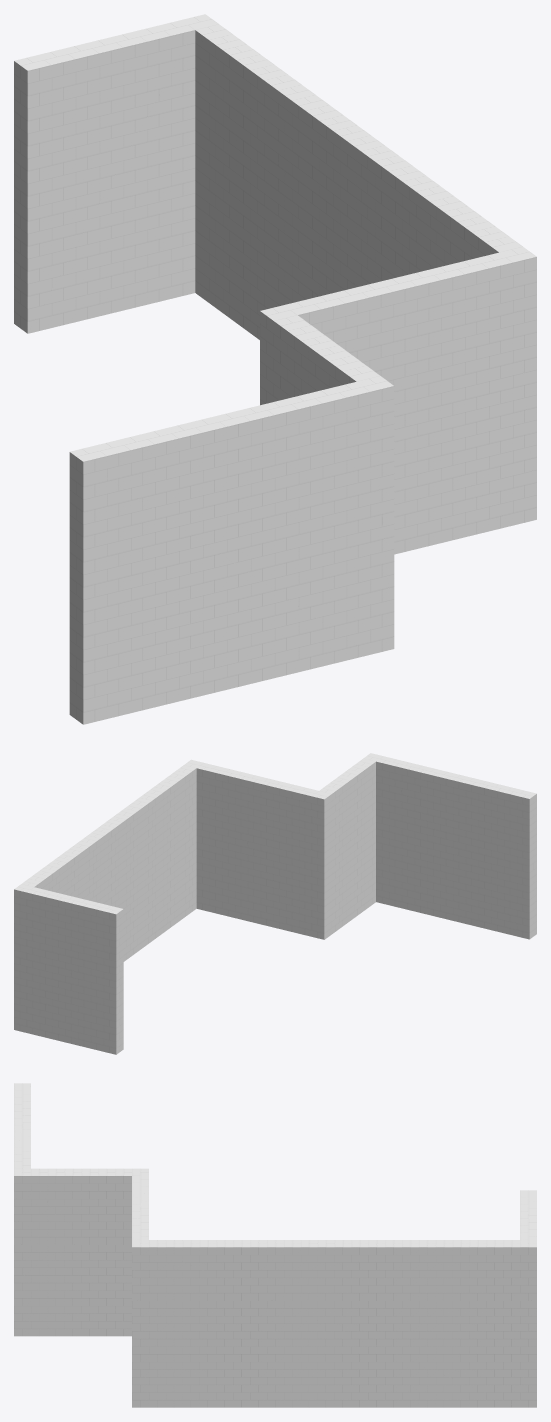
The model's file is LeftWall.obj.
3 views of the same model, one above another, from view 1: azimuth 30°, elevation 25°; view 2: azimuth 150°, elevation 25°; view 3: azimuth 270°, elevation 25° (orthographic). The views are drawn at different scales.
Parts seen in each view (by area): view 1: LeftWall; view 2: LeftWall; view 3: LeftWall.
Part boxes in pixels (left/top/right/bottom): LeftWall: left=14, top=14, right=536, bottom=724; LeftWall: left=14, top=753, right=536, bottom=1054; LeftWall: left=14, top=1083, right=536, bottom=1407.
Size of the model in its own units: 23 by 10.5 by 31.
